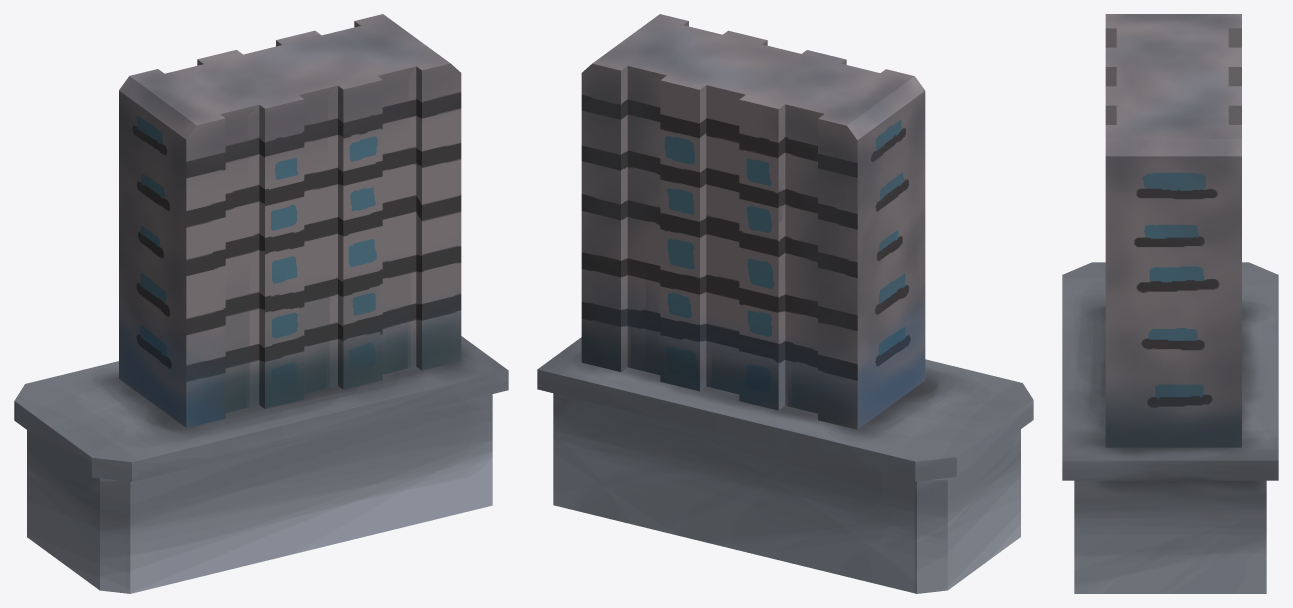
File: Hotel.gltf
3 views of the same model, side by side, from view 1: azimuth 30°, elevation 25°; view 2: azimuth 150°, elevation 25°; view 3: azimuth 270°, elevation 25° (orthographic).
Visible parts, largest first — view 1: Hotel; view 2: Hotel; view 3: Hotel.
Part boxes in pixels (left/top/right/bottom): Hotel: left=14, top=14, right=508, bottom=593; Hotel: left=537, top=14, right=1033, bottom=593; Hotel: left=1062, top=14, right=1278, bottom=593.
Bounding box in the file's own units: 5.09 × 5.29 × 2.34.
Materials: 1 (1 with a texture image).
